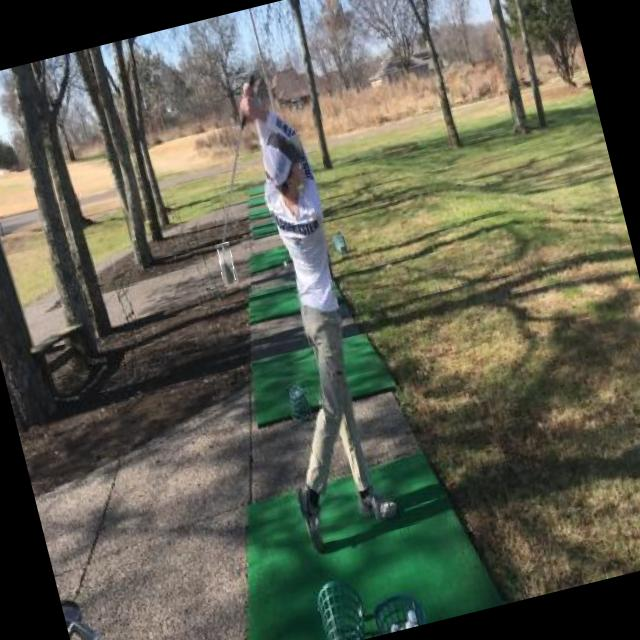club head: (214, 241, 238, 286)
